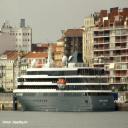cruises: (13, 47, 117, 114)
